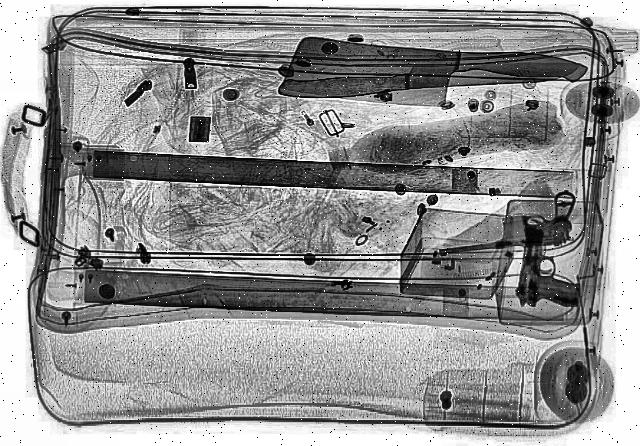Gun: (424, 192, 590, 262), (500, 222, 588, 314)
Knife: (280, 36, 592, 118), (275, 46, 583, 114)
